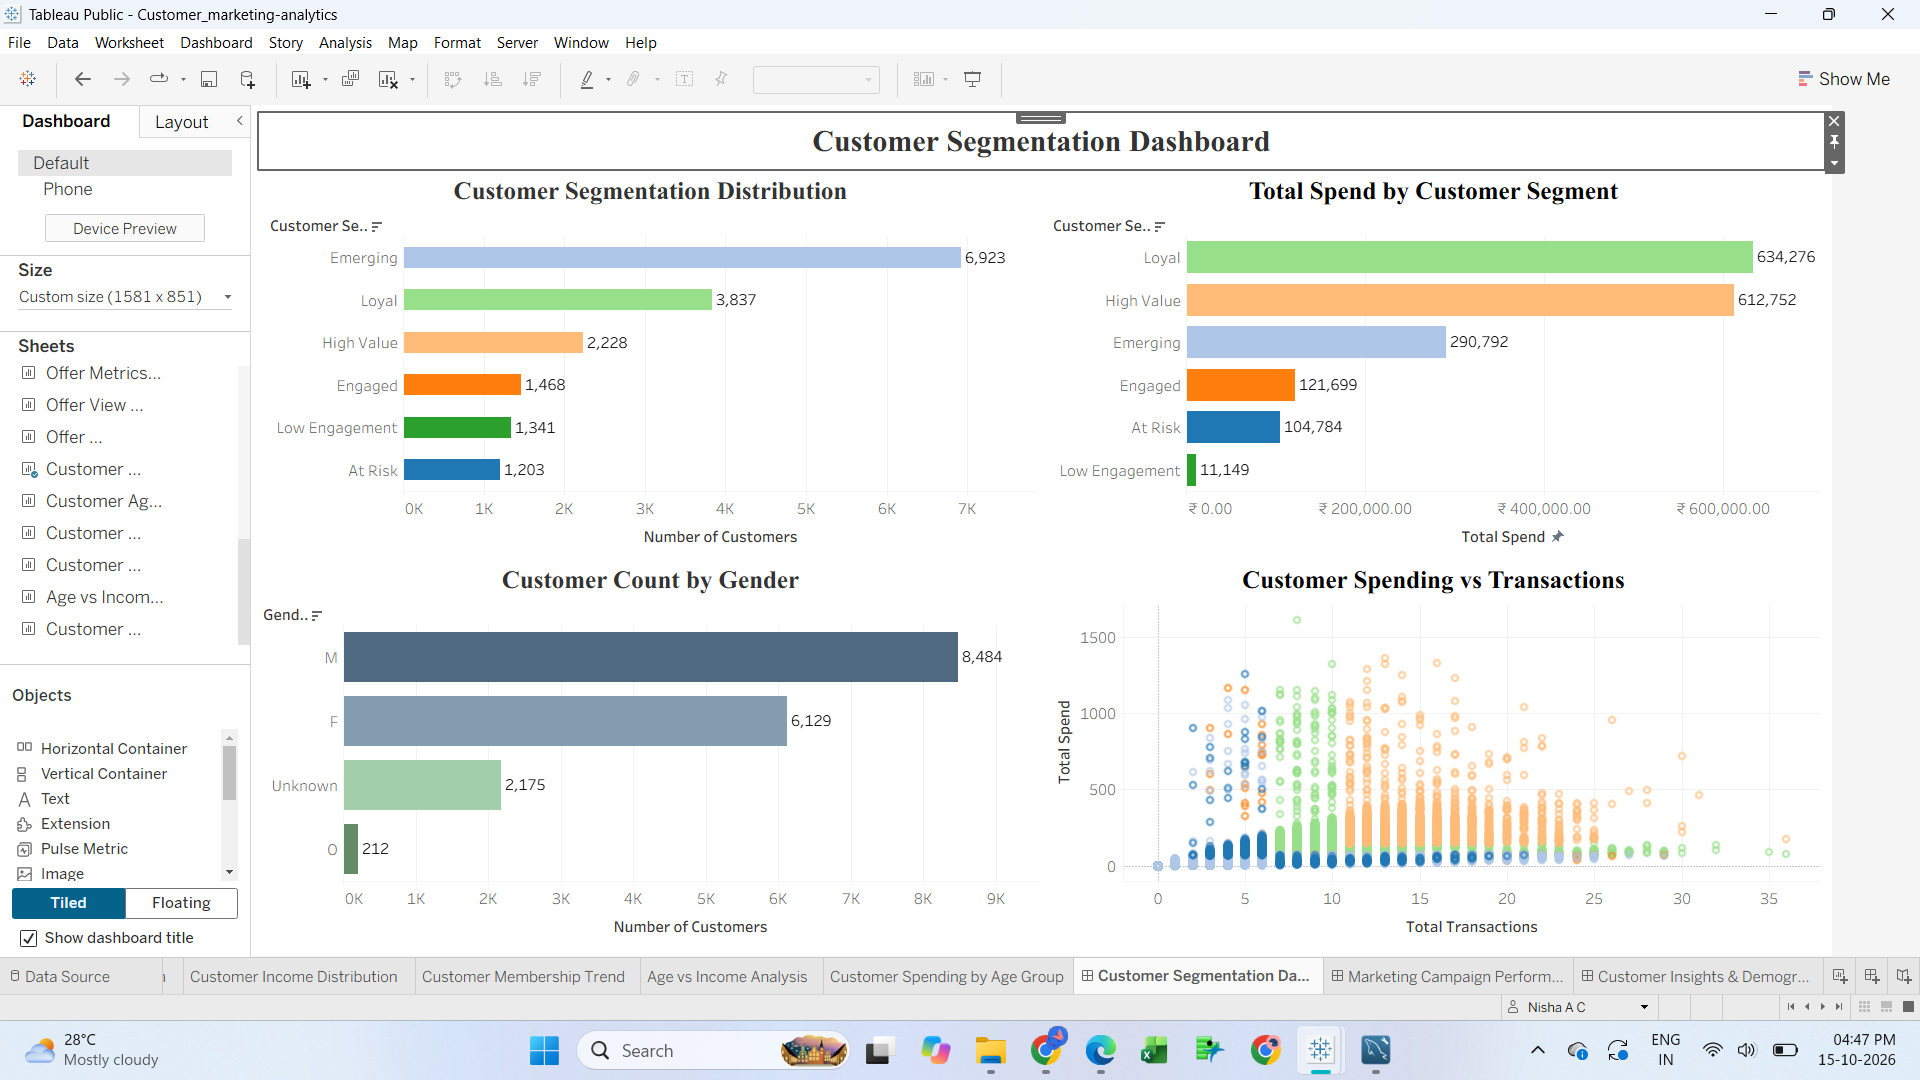

This screenshot's page, from the dashboard's own definition file:
{"tool":"tableau","page":{"name":"Customer Segmentation Dashboard","canvas":[1581,851],"ordinal":1},"visuals":[{"type":"title","box":[8,8,1565,56]},{"type":"worksheet","title":"Customer Segment Distribution","mark":"Automatic","rows":["customer_segment"],"cols":["customer_id"],"box":[8,64,782.5,389.5]},{"type":"worksheet","title":"Spend by Customer Segment","mark":"Automatic","rows":["customer_segment"],"cols":["total_spend"],"box":[790.5,64,782.5,389.5]},{"type":"worksheet","title":"Customer Count by Gender","mark":"Bar","rows":["gender"],"cols":["customer_id"],"box":[8,453.5,782.5,389.5]},{"type":"worksheet","title":"Customer Spending vs Transactions","mark":"Automatic","rows":["total_spend"],"cols":["total_transactions"],"box":[790.5,453.5,782.5,389.5]}]}

Visuals, with their boxes on the page's 1581x851 design canvas (x1, y1, x2, y2). These are canvas units, not pixel positions in the 1920x1080 screenshot, which may show the page scaled, cropped or inside an application window:
title: rect(8, 8, 1573, 64)
"Customer Segment Distribution" worksheet: rect(8, 64, 790, 454)
"Spend by Customer Segment" worksheet: rect(790, 64, 1573, 454)
"Customer Count by Gender" worksheet (Bar marks): rect(8, 454, 790, 843)
"Customer Spending vs Transactions" worksheet: rect(790, 454, 1573, 843)
